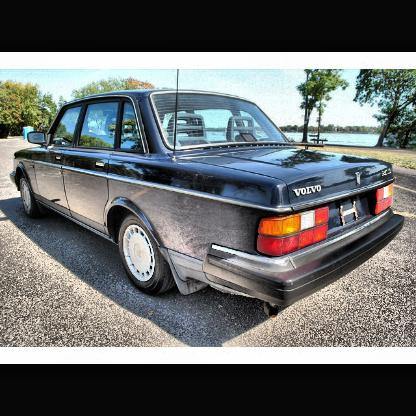Volvo 240 Sedan 1993: (14, 89, 407, 319)
